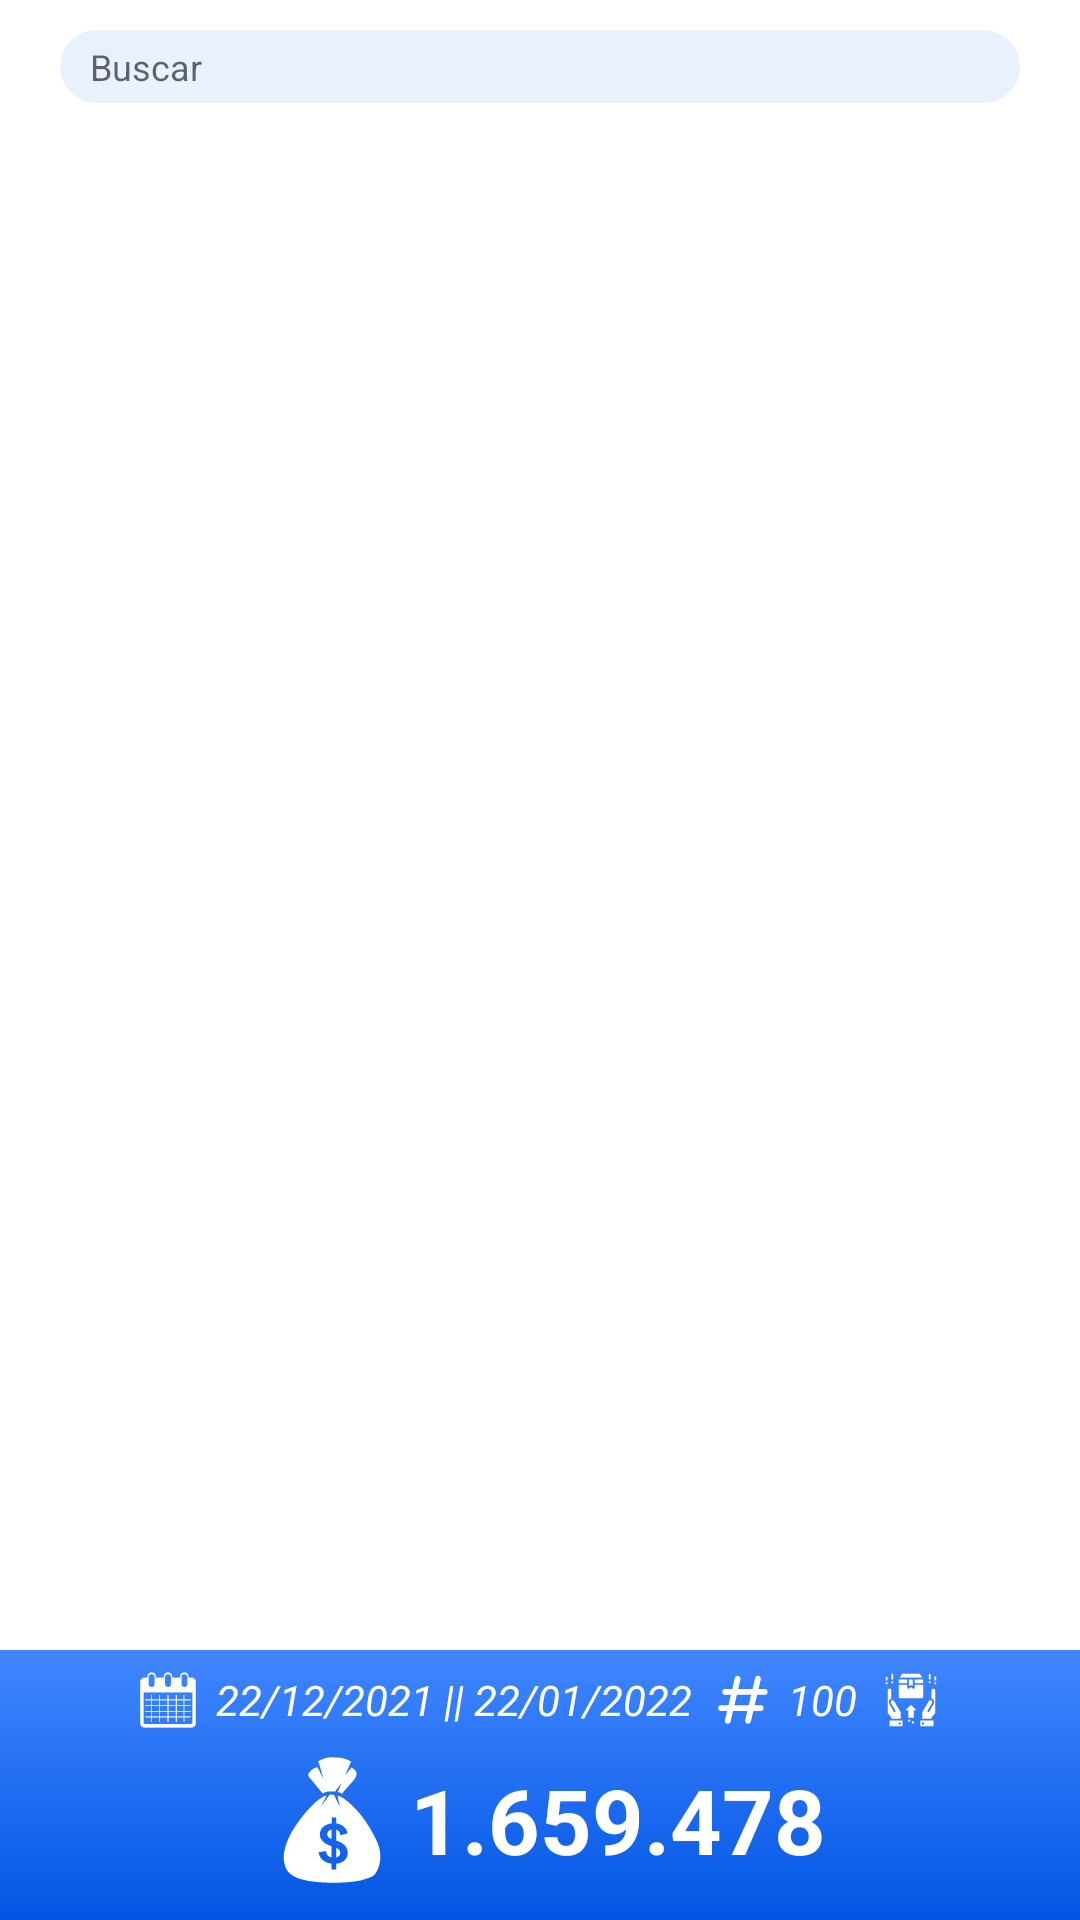

Point at icon controls on the screen. Image size 1080x1920, points as (x,y).
bolsa dinero: (332,1820)
date: (168,1700)
entregas producto: (911,1700)
numeral: (743,1699)
